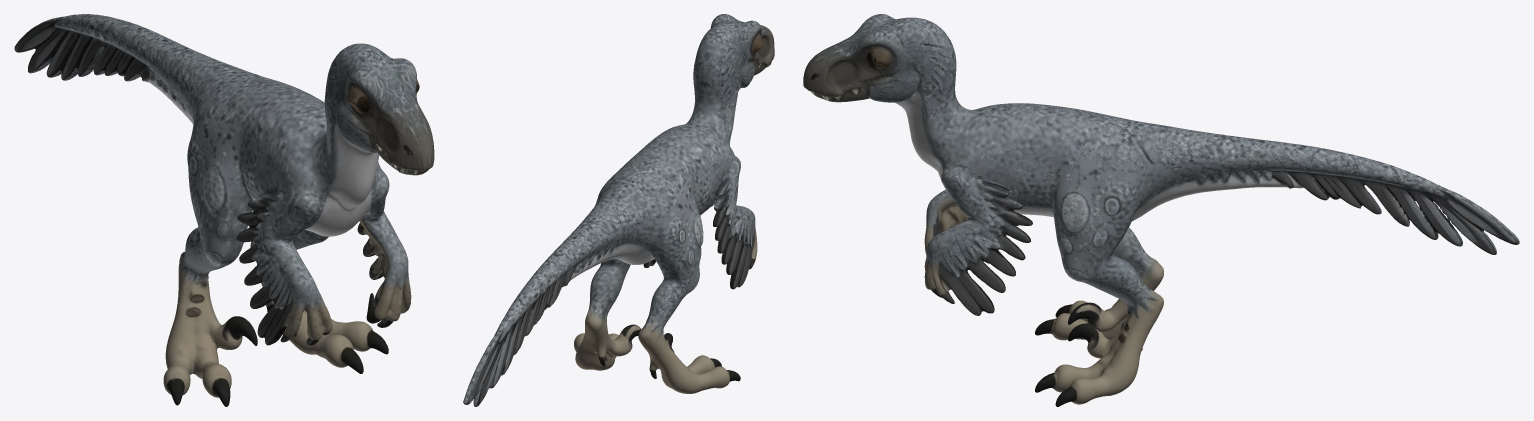
Rendered from V-velociraptor.glb.
The picture shows the model from 3 angles, left to right: view 1: azimuth 30°, elevation 25°; view 2: azimuth 150°, elevation 25°; view 3: azimuth 270°, elevation 25°; orthographic projection. The views are drawn at different scales.
Size of the model in its own units: 0.5702 by 1.01 by 1.9.
Materials: 1 (1 with a texture image).
